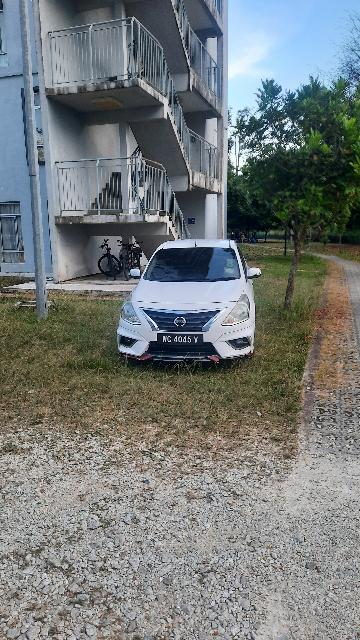License_Plate: (158, 332, 207, 348)
car: (120, 237, 263, 372)
